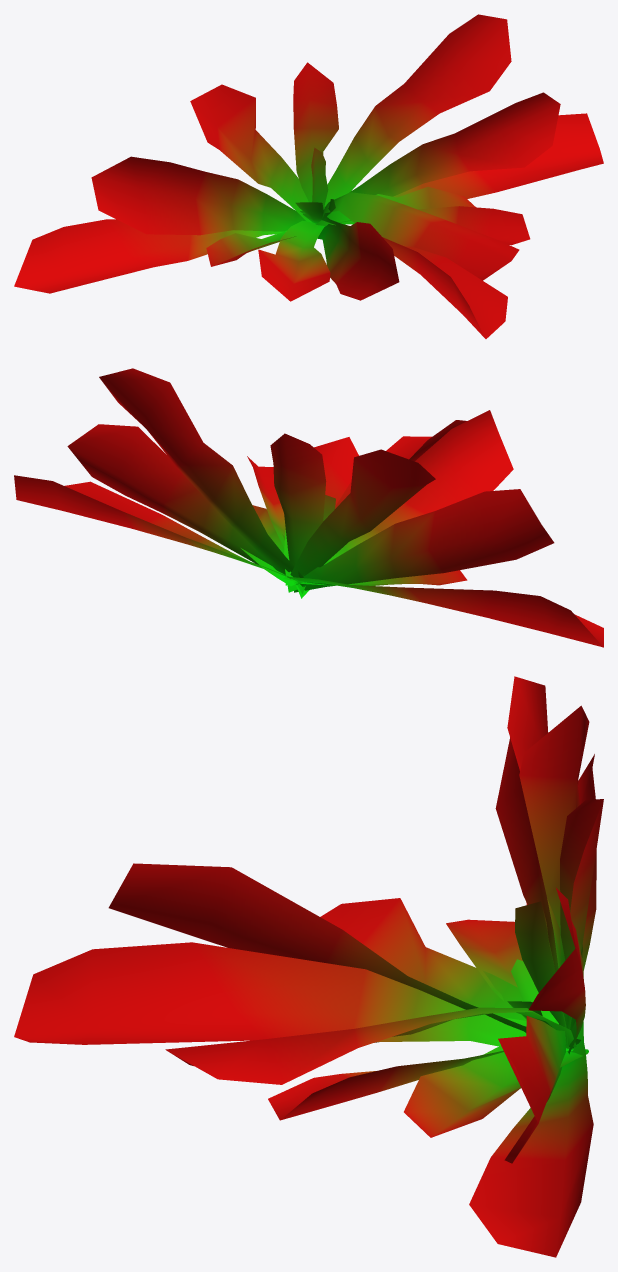
Rendered from Var7_LOD0.fbx.
3 views of the same model, one above another, from view 1: azimuth 30°, elevation 25°; view 2: azimuth 150°, elevation 25°; view 3: azimuth 270°, elevation 25° (orthographic). The views are drawn at different scales.
Parts seen in each view (by area): view 1: _doza_Var7_LOD0; view 2: _doza_Var7_LOD0; view 3: _doza_Var7_LOD0.
Part boxes in pixels (x1,y1,x2,y2): _doza_Var7_LOD0: (14,14,603,338); _doza_Var7_LOD0: (14,368,603,647); _doza_Var7_LOD0: (14,676,603,1257).
Bounding box in the file's own units: 39.69 × 11.92 × 21.25.
